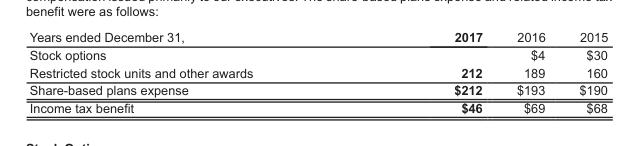table: (28, 29, 607, 114)
table column: (28, 29, 352, 114), (352, 29, 499, 114), (499, 29, 561, 114), (561, 29, 607, 114)
table column header: (28, 29, 607, 45)
table row: (28, 45, 607, 63), (28, 63, 607, 81), (28, 81, 607, 98), (28, 29, 607, 45), (28, 98, 607, 114)
